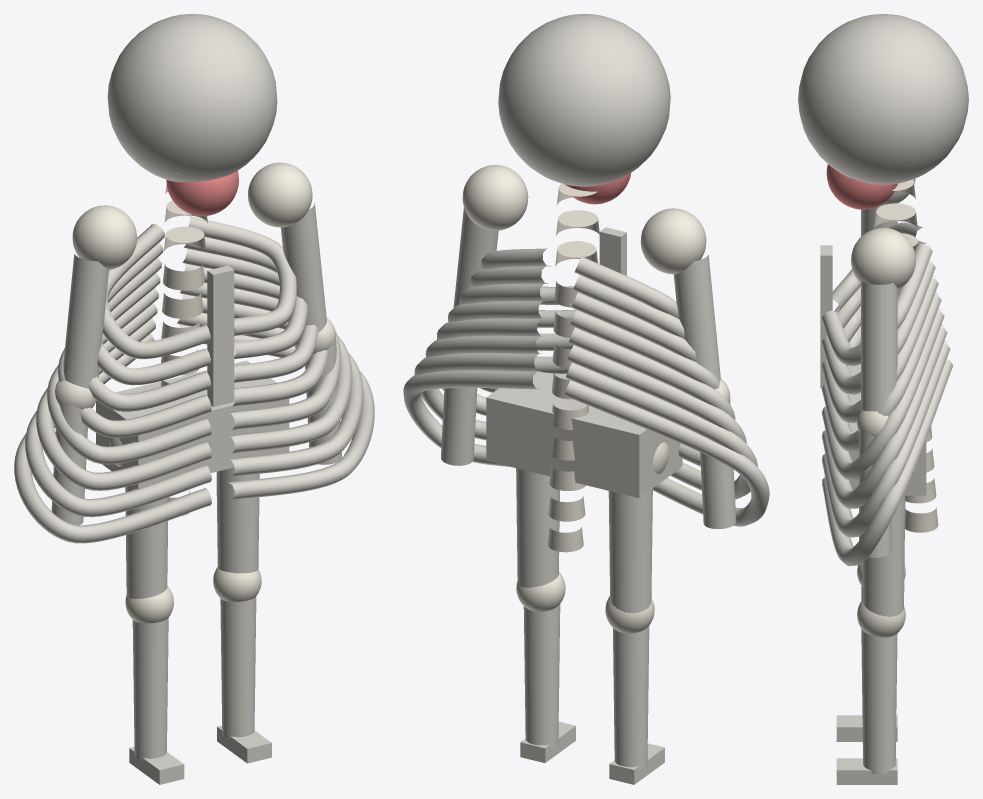
The model's file is skeleton.glb.
3 views of the same model, side by side, from view 1: azimuth 30°, elevation 25°; view 2: azimuth 150°, elevation 25°; view 3: azimuth 270°, elevation 25° (orthographic).
Visible parts, largest first — view 1: skull, pelvis, rib_l_8, rib_l_7, left_tibia, right_tibia, rib_l_6, left_humerus, rib_l_5, rib_r_8, rib_r_7, right_femur (+26 smaller); view 2: skull, pelvis, rib_l_8, left_femur, right_tibia, left_tibia, right_femur, rib_l_7, rib_r_8, left_humerus, rib_l_6, right_shoulder (+26 smaller); view 3: skull, right_tibia, right_humerus, rib_r_8, rib_r_7, rib_r_6, right_femur, right_shoulder, rib_r_5, rib_r_4, rib_r_1, rib_r_3 (+16 smaller).
Boxes of the visible parts, box(x1,y1,x2,y2) form: skull: box(107, 14, 277, 182); pelvis: box(96, 360, 289, 489); rib_l_8: box(14, 333, 211, 543); rib_l_7: box(25, 318, 211, 517); left_tibia: box(132, 618, 168, 760); right_tibia: box(220, 596, 256, 739); rib_l_6: box(36, 303, 211, 490); left_humerus: box(63, 254, 108, 388); rib_l_5: box(47, 288, 211, 464); rib_r_8: box(179, 324, 374, 500); rib_r_7: box(176, 313, 363, 476); right_femur: box(216, 467, 259, 573); skull: box(498, 14, 670, 186); pelvis: box(486, 371, 682, 498); rib_l_8: box(564, 380, 769, 526); left_femur: box(608, 488, 652, 613); right_tibia: box(523, 604, 560, 747); left_tibia: box(613, 626, 649, 769); right_femur: box(516, 468, 559, 587); rib_l_7: box(565, 362, 757, 499); rib_r_8: box(403, 370, 540, 466); left_humerus: box(673, 254, 720, 381); rib_l_6: box(567, 345, 746, 466); right_shoulder: box(462, 165, 528, 230); skull: box(798, 14, 968, 184); right_tibia: box(861, 629, 897, 774); right_humerus: box(861, 280, 897, 411); rib_r_8: box(822, 359, 953, 566); rib_r_7: box(822, 343, 950, 537); rib_r_6: box(822, 326, 947, 508); right_femur: box(862, 495, 905, 616); right_shoulder: box(851, 227, 915, 289); rib_r_5: box(821, 310, 944, 480); rib_r_4: box(821, 294, 941, 451); rib_r_1: box(822, 243, 932, 366); rib_r_3: box(821, 277, 938, 423).
Bounding box in the file's own units: 0.89 × 1.75 × 0.369.
